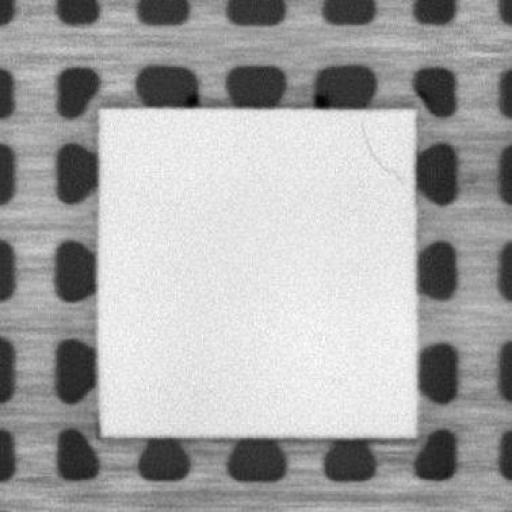DIE_CRACK: (359, 121, 404, 180)
